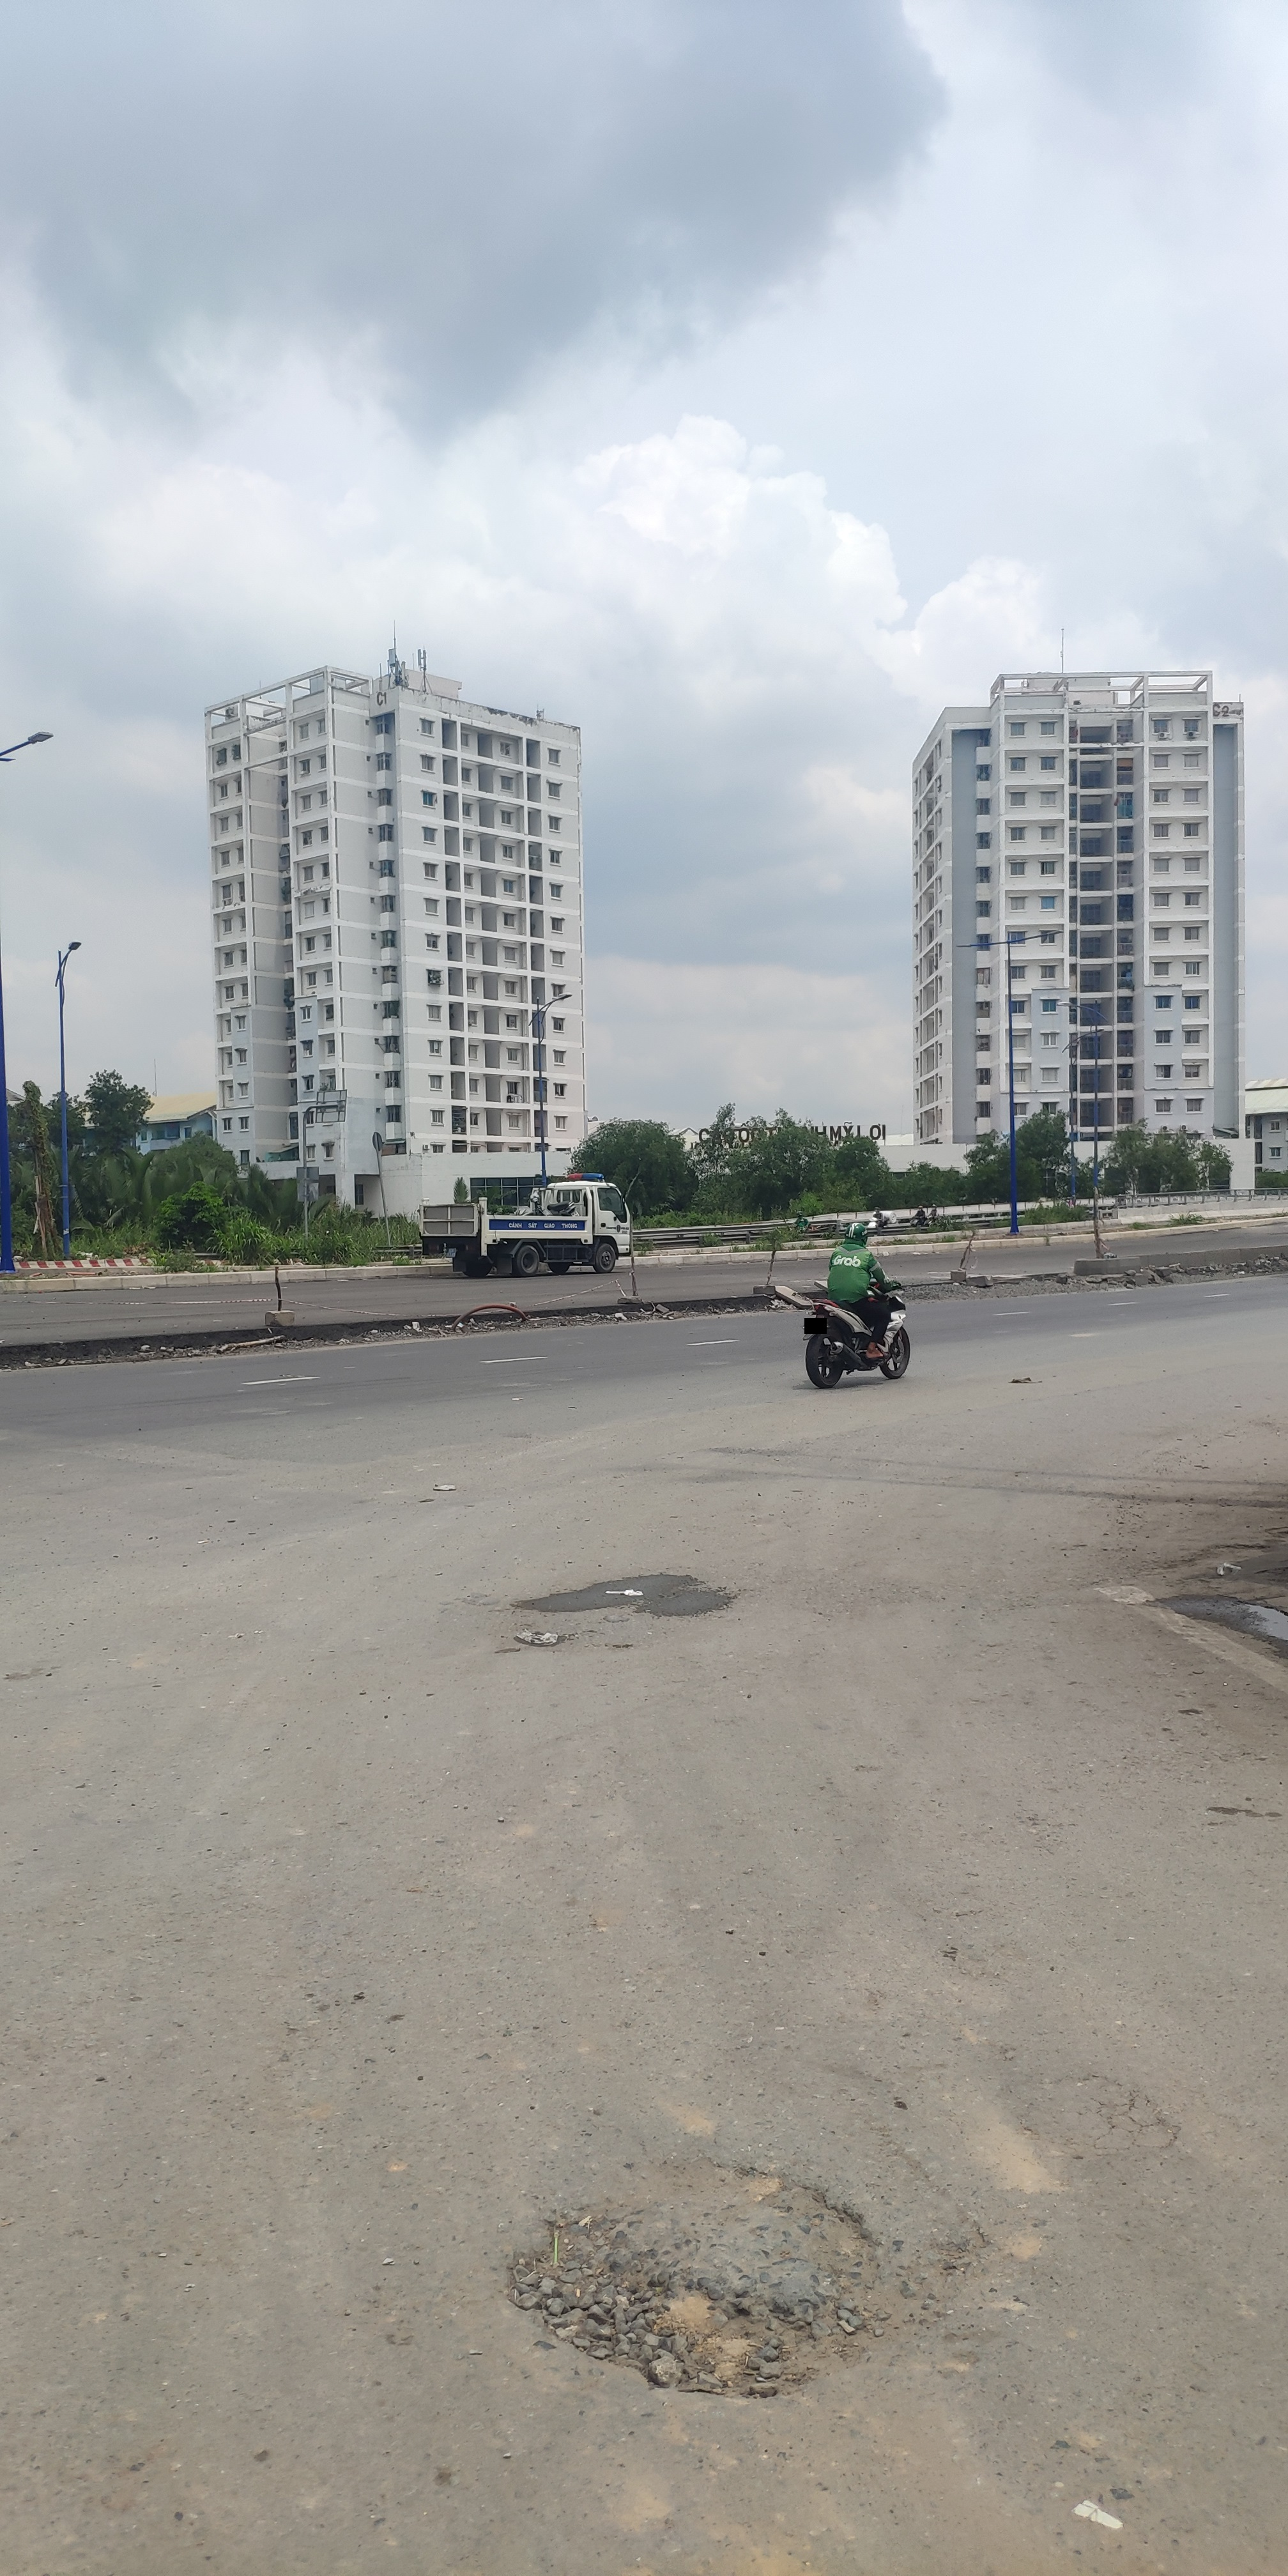hole: (498, 2160, 884, 2412), (514, 1571, 734, 1618)
